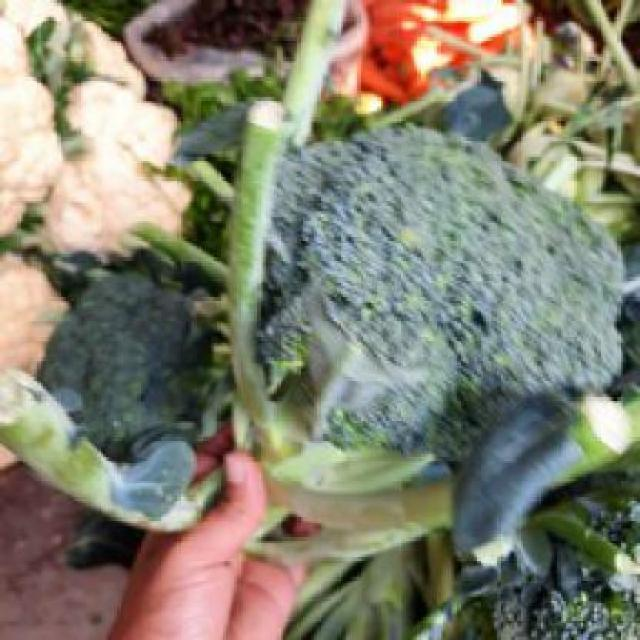broccoli: (188, 157, 594, 517), (1, 0, 178, 255), (42, 252, 235, 483)
